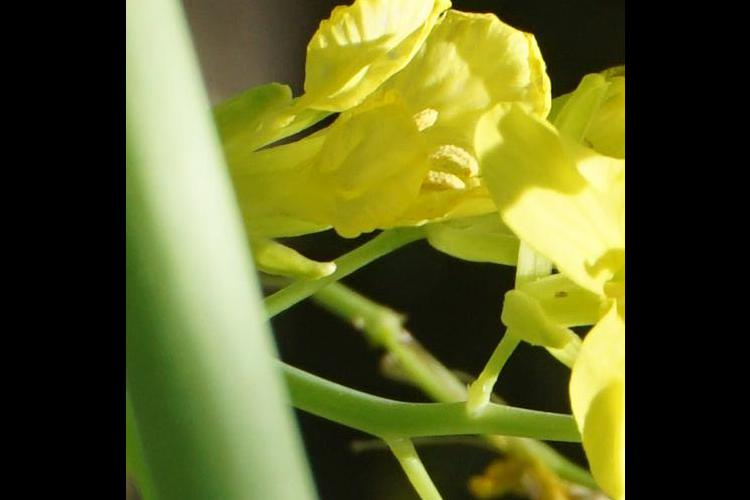yellow: (245, 1, 531, 233), (508, 90, 623, 475)
